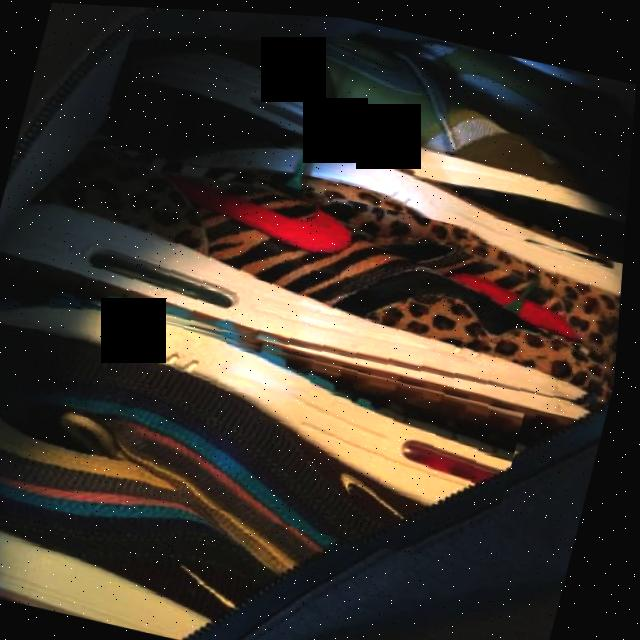shoe: (0, 122, 633, 419), (0, 276, 538, 567), (102, 5, 640, 222)
